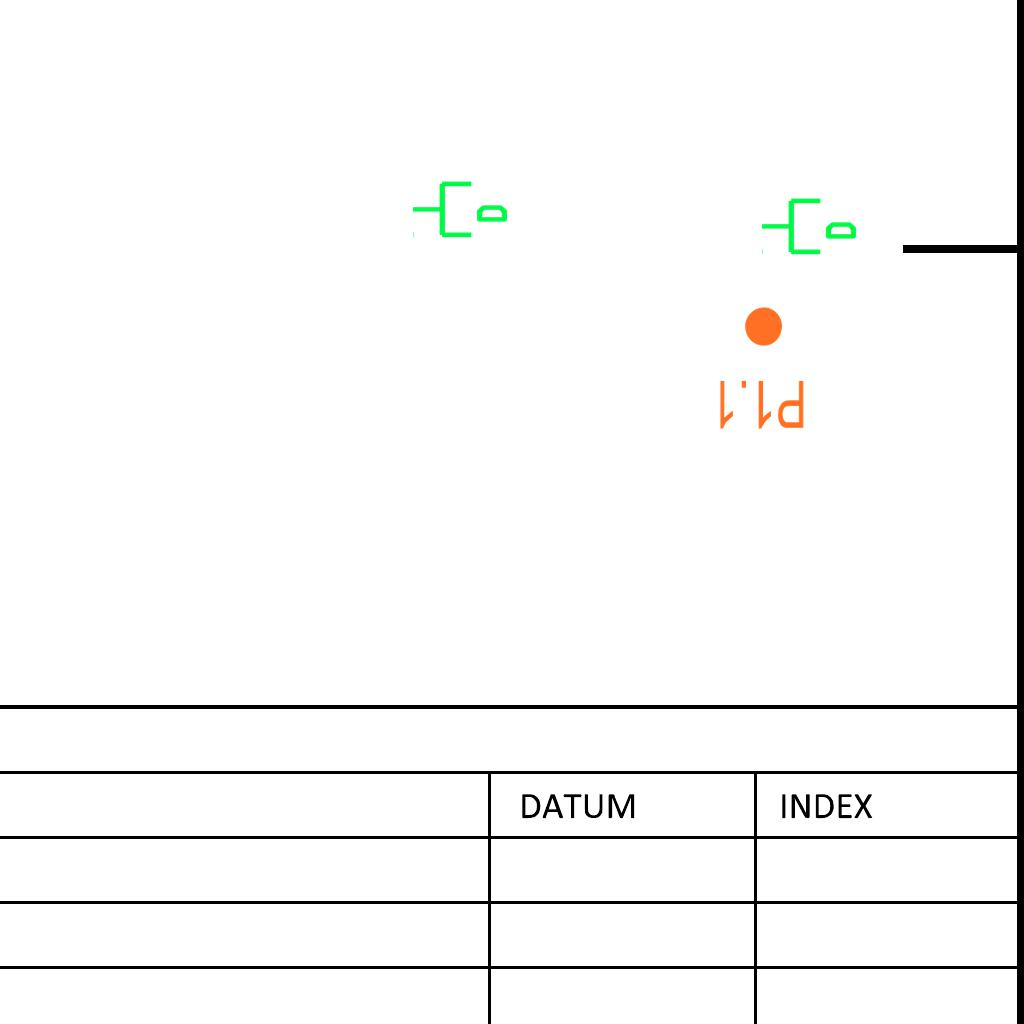Datenanschluss_einfach: (759, 190, 859, 259), (410, 173, 510, 242)
Downlight_LED_Einbauleuchten_Flur: (714, 304, 807, 432)
